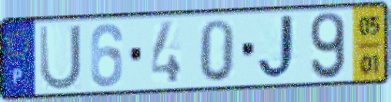0: (197, 18, 237, 84)
4: (149, 18, 183, 86)
6: (88, 22, 125, 89)
9: (308, 10, 347, 82)
J: (256, 12, 301, 84)
U: (37, 22, 84, 92)
